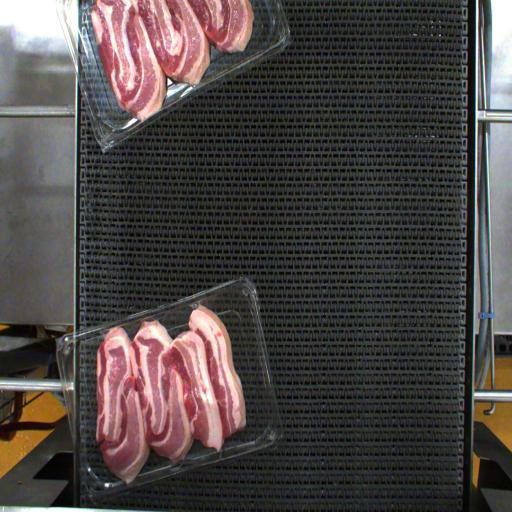packaging-error: (114, 473, 147, 502), (138, 303, 167, 335), (186, 286, 210, 315), (91, 326, 116, 343)
